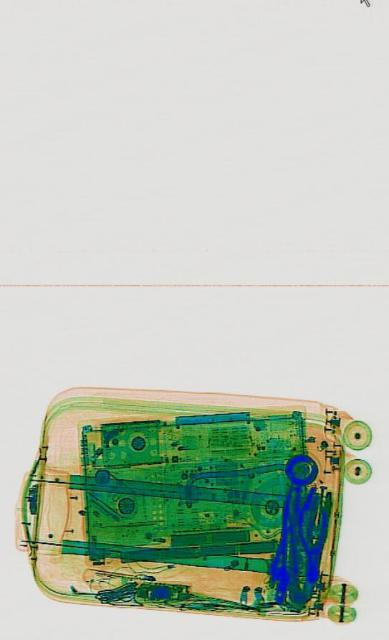Pliers: (279, 482, 331, 608), (293, 484, 329, 582)
